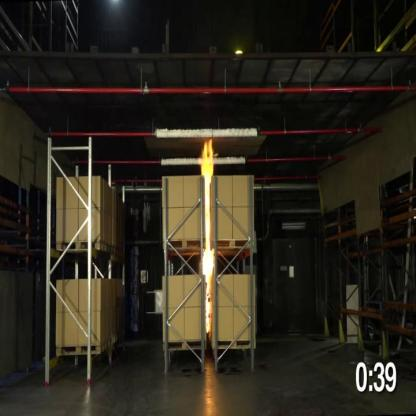fire: (199, 140, 216, 336)
